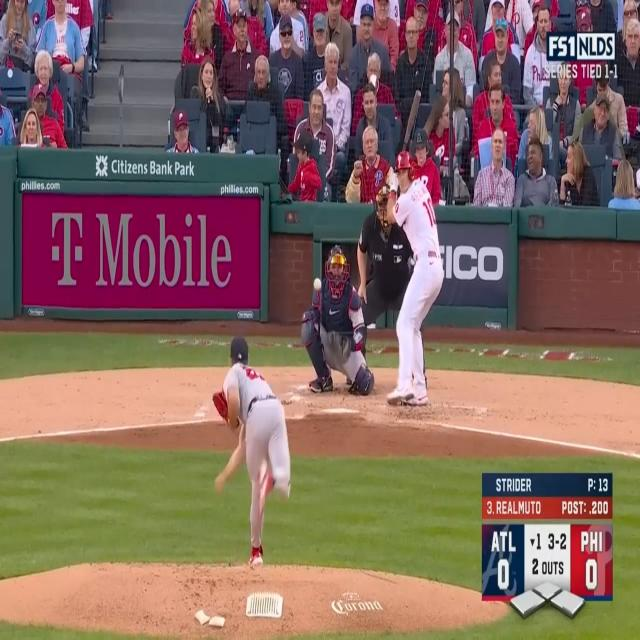baseball: (313, 276, 322, 293)
